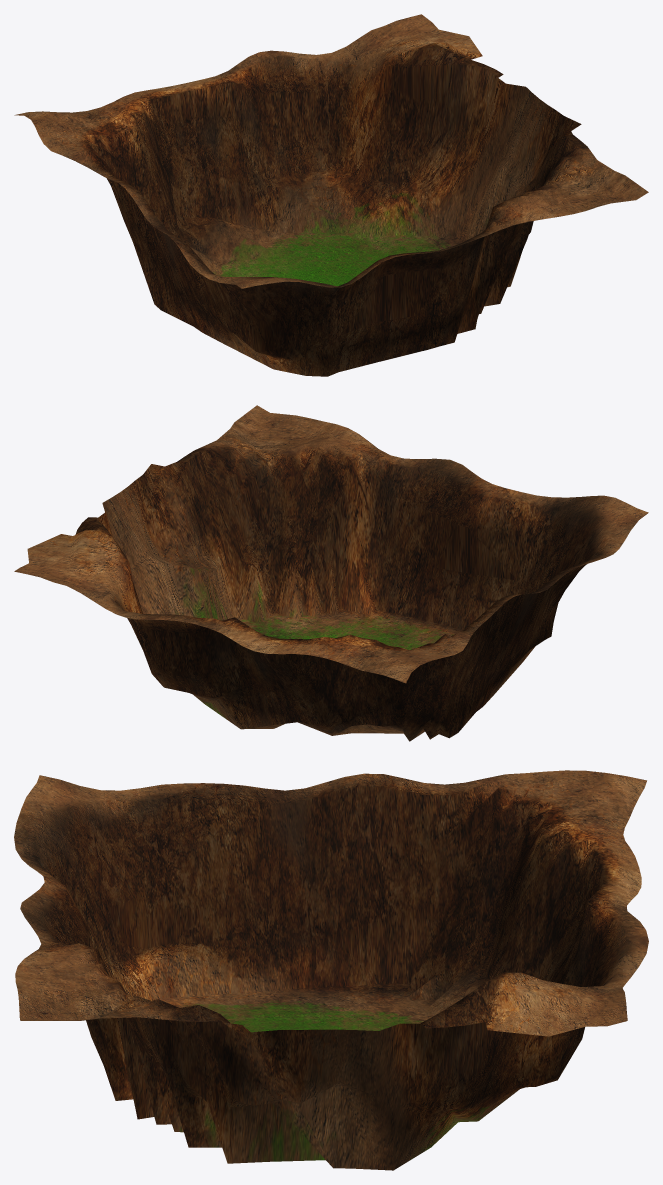
File: terrain.fbx
3 renders of one model, top to bottom at view 1: azimuth 30°, elevation 25°; view 2: azimuth 150°, elevation 25°; view 3: azimuth 270°, elevation 25°, orthographic. The views are drawn at different scales.
Visible parts, largest first — view 1: Plane01; view 2: Plane01; view 3: Plane01.
Part boxes in pixels (x1,y1,x2,y2): Plane01: (14, 14, 648, 376); Plane01: (14, 405, 648, 741); Plane01: (14, 770, 648, 1170).
Bounding box in the file's own units: 6101 × 2147 × 6062.
